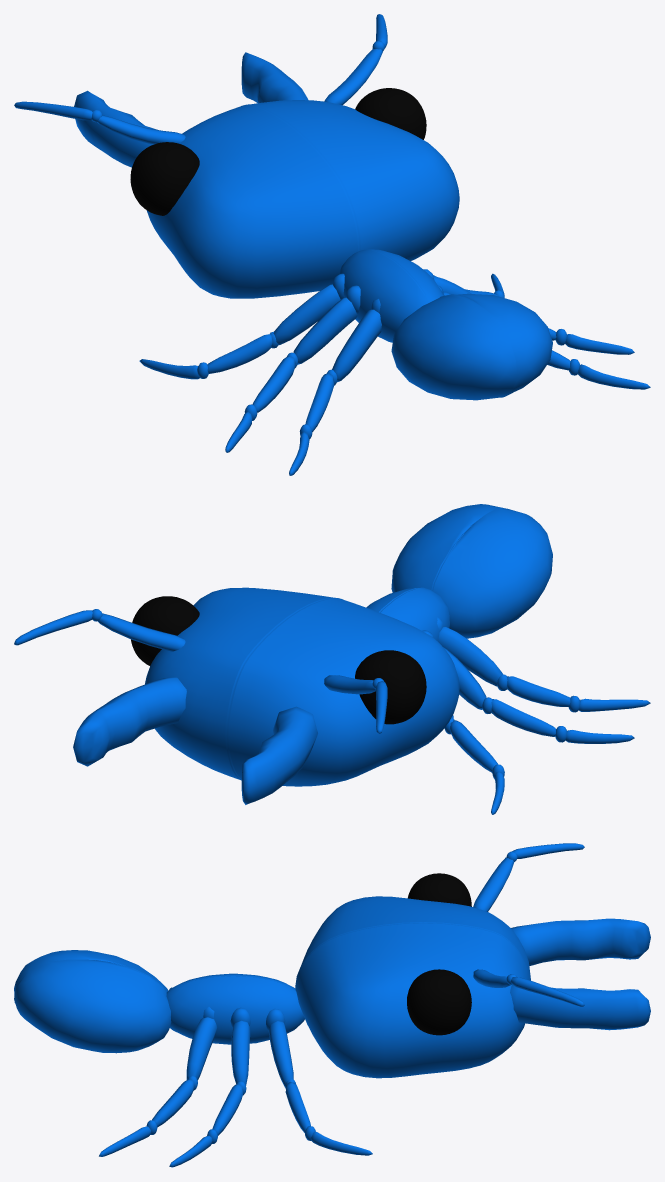
The model's file is minion bleu.fbx.
3 views of the same model, one above another, from view 1: azimuth 30°, elevation 25°; view 2: azimuth 150°, elevation 25°; view 3: azimuth 270°, elevation 25° (orthographic). The views are drawn at different scales.
Visible parts, largest first — view 1: Minion bleu; view 2: Minion bleu; view 3: Minion bleu.
Part boxes in pixels (<box>): Minion bleu: <box>14,14,650,475</box>; Minion bleu: <box>14,504,650,814</box>; Minion bleu: <box>14,843,650,1167</box>.
Bounding box in the file's own units: 1.04 × 0.4575 × 1.57.
